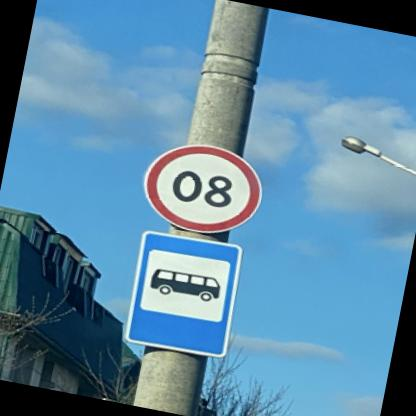speedlimit: (138, 134, 270, 242)
